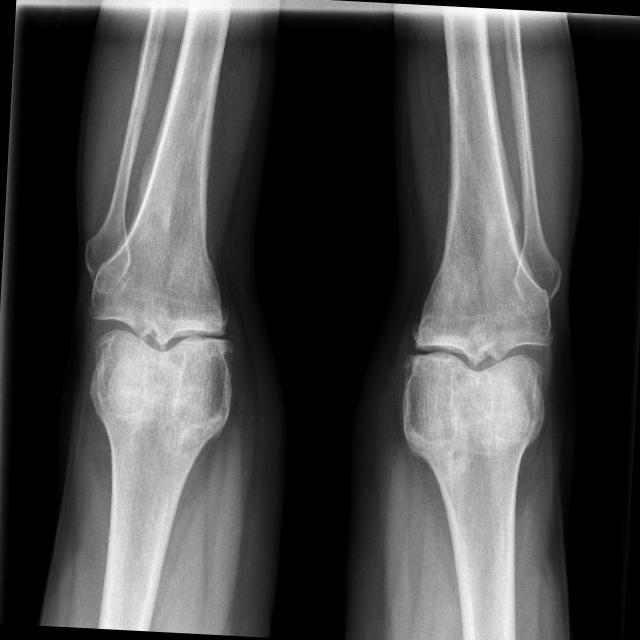Knee: (86, 266, 244, 403), (404, 292, 556, 424)
